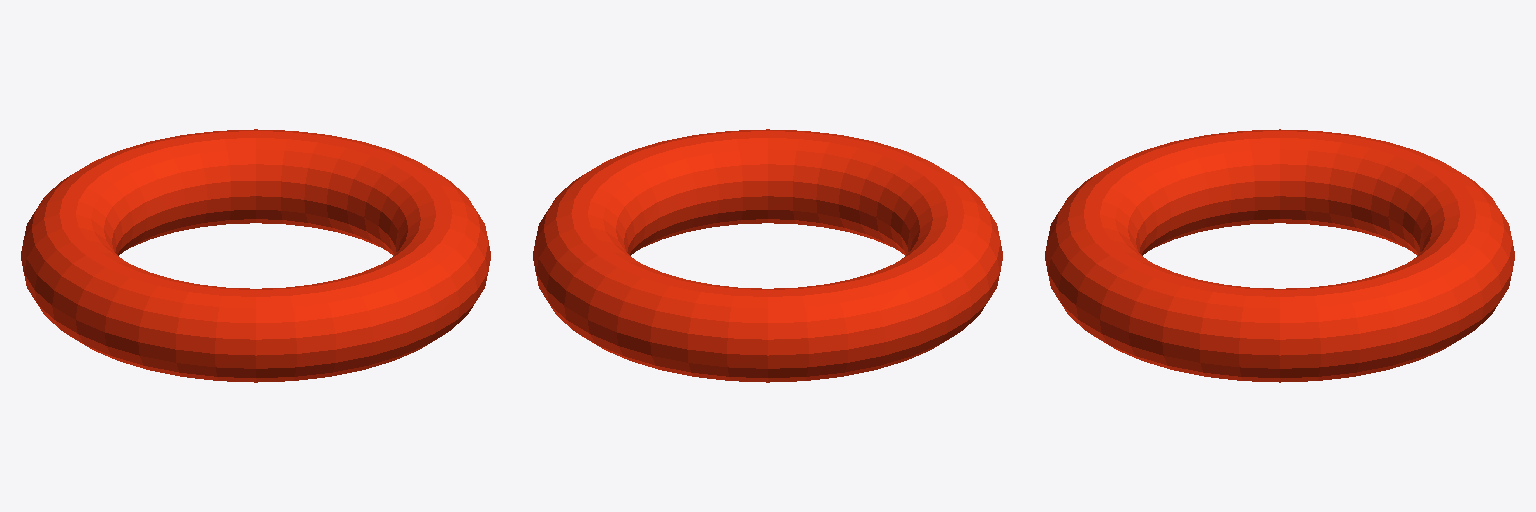
The robot description file, URDF, robot "dvrk_torus_ring":
<?xml version="1.0"?>
<!-- SPDX-License-Identifier: Apache-2.0 -->
<robot name="dvrk_torus_ring">
  <material name="ring_red">
    <color rgba="0.95 0.25 0.10 1.0"/>
  </material>
  <link name="ring">
    <contact>
      <lateral_friction value="1.0"/>
      <rolling_friction value="0.001"/>
      <spinning_friction value="0.001"/>
      <contact_cfm value="0.0"/>
      <contact_erp value="1.0"/>
    </contact>
    <inertial>
      <origin xyz="0 0 0" rpy="0 0 0"/>
      <mass value="0.005"/>
      <!-- Hollow cylinder / torus approx inertia: Izz = m * R^2, Ixx = Iyy = 0.5 * m * R^2 -->
      <inertia ixx="0.0000001" ixy="0" ixz="0" iyy="0.0000001" iyz="0" izz="0.00000018"/>
    </inertial>
    <visual>
      <origin xyz="0 0 0" rpy="0 0 0"/>
      <geometry>
        <mesh filename="meshes/ring.obj"/>
      </geometry>
      <material name="ring_red"/>
    </visual>
    <collision>
      <origin xyz="0 0 0" rpy="0 0 0"/>
      <geometry>
        <mesh filename="meshes/ring_vhacd.obj"/>
      </geometry>
    </collision>
  </link>
</robot>

--- What the picture shows (computed from the rendered views, not written in the file) ---
The picture shows the robot from 3 angles, left to right: view 1: azimuth 30°, elevation 25°; view 2: azimuth 150°, elevation 25°; view 3: azimuth 270°, elevation 25°; orthographic projection.
Robot: dvrk_torus_ring — 1 links, 0 joints (none); root link ring; default pose: every joint at zero.
Links seen in each view (by area): view 1: ring; view 2: ring; view 3: ring.
Link boxes in pixels (x1,y1,x2,y2): ring: (21,129,490,382); ring: (533,129,1002,382); ring: (1045,129,1514,382).
Size in the robot's own frame: 0.015 by 0.015 by 0.003 metres.
1 mesh visuals loaded from 1 distinct referenced files (1 OBJ).
